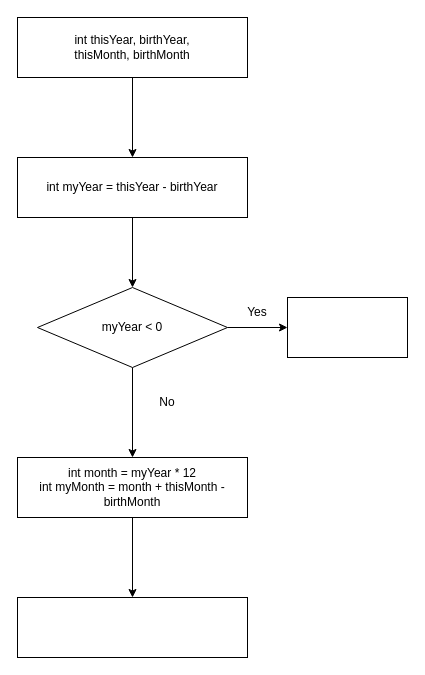
This 425x675 diagram has some shape labels left out. The shapes that lost their labels are listed below. From the top down, each one's centre as x and y in pixels, then its label:
the point at 347,327: printf("이 값은 잘못되었습니다.")
the point at 132,627: printf("당신은 생후 %d개월 입니다.",myMonth)
